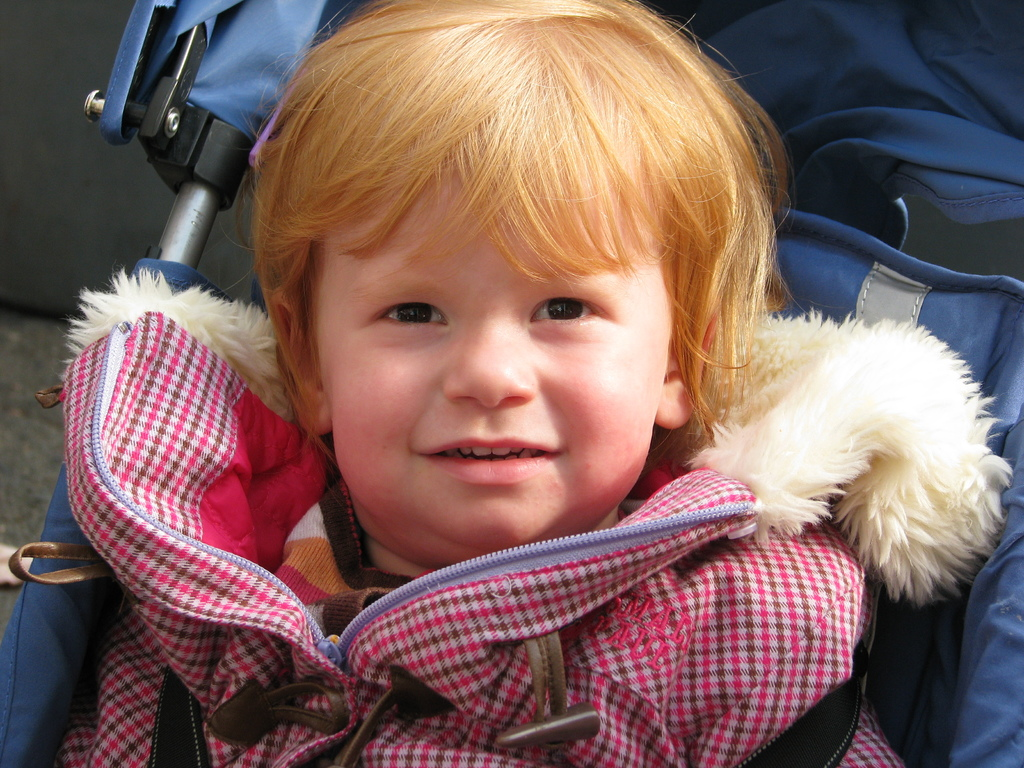Human-face: (314, 167, 691, 556)
